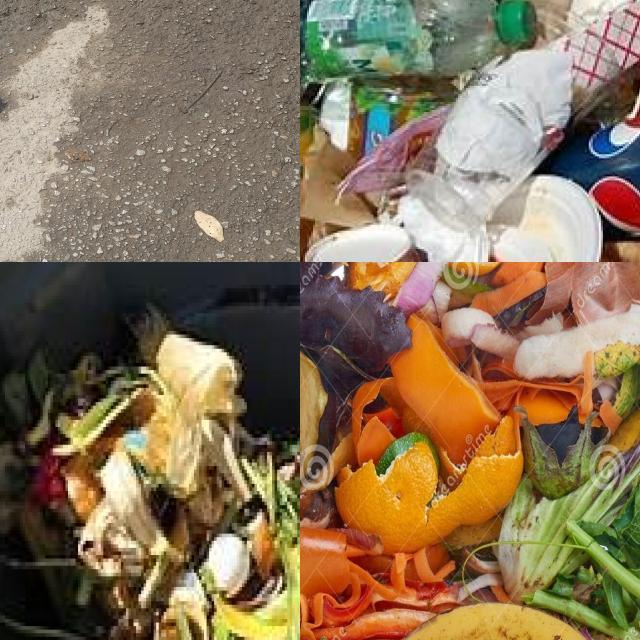Disposable: (489, 175, 602, 262)
Garbage: (300, 262, 640, 640), (0, 296, 300, 640), (300, 0, 640, 262)
Plastic_bottle: (300, 0, 536, 80)
Plastic_wraper: (338, 107, 451, 201)
